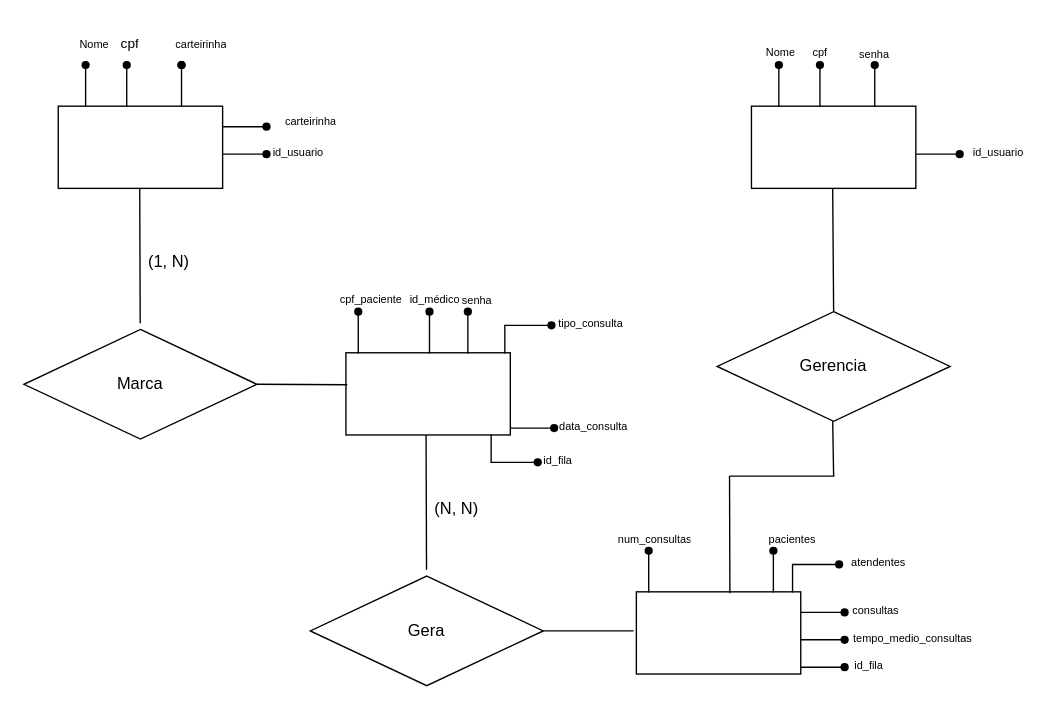
The diagram is 1058 pixels wide and 710 high, and some of its shapes have lost their labels. The box of each missing label's shape, as (x1, y1, x2, y2) in pixels:
Atendente: (750, 105, 916, 188)
Consulta: (345, 351, 510, 435)
Fila: (635, 590, 801, 674)
Paciente: (57, 105, 223, 188)
